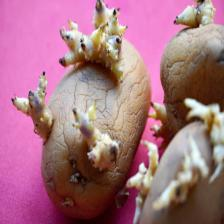Sprouted potato: (11, 2, 152, 224), (119, 96, 224, 224), (158, 16, 224, 133)
